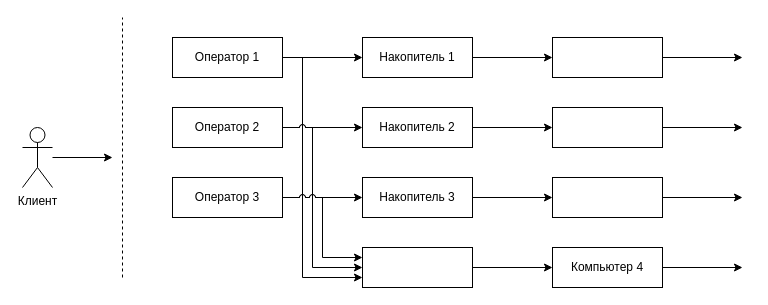
Image size: 768x305. Some labels were removed from this diagram. Here are the shapes that lost their labels. From the top down, the centre of each, then its label:
pixel 607 57: Компьютер 1
pixel 607 127: Компьютер 2
pixel 607 197: Компьютер 3
pixel 417 267: Накопитель 4
